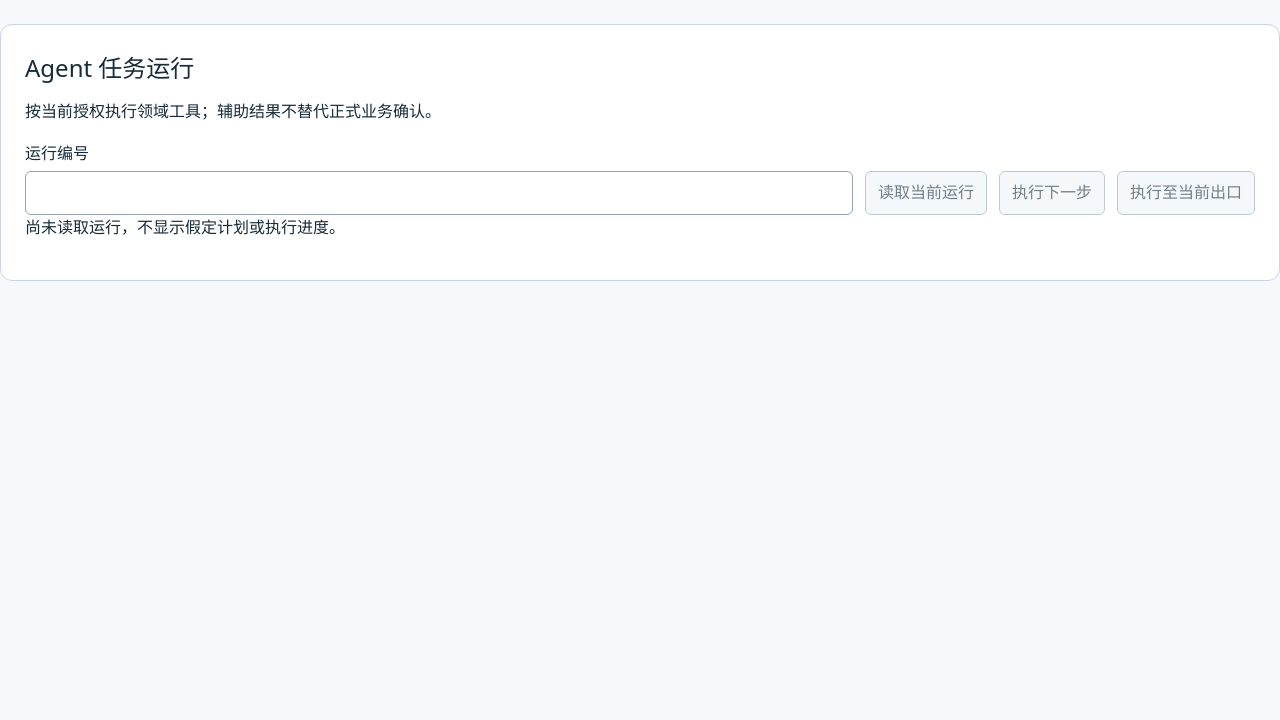
shared real-run projection › human stop disables execution without granting review actions
Type "run-1" into the field labelled "运行编号".
click(439, 193); type("run-1")  # box [25, 171, 853, 215]
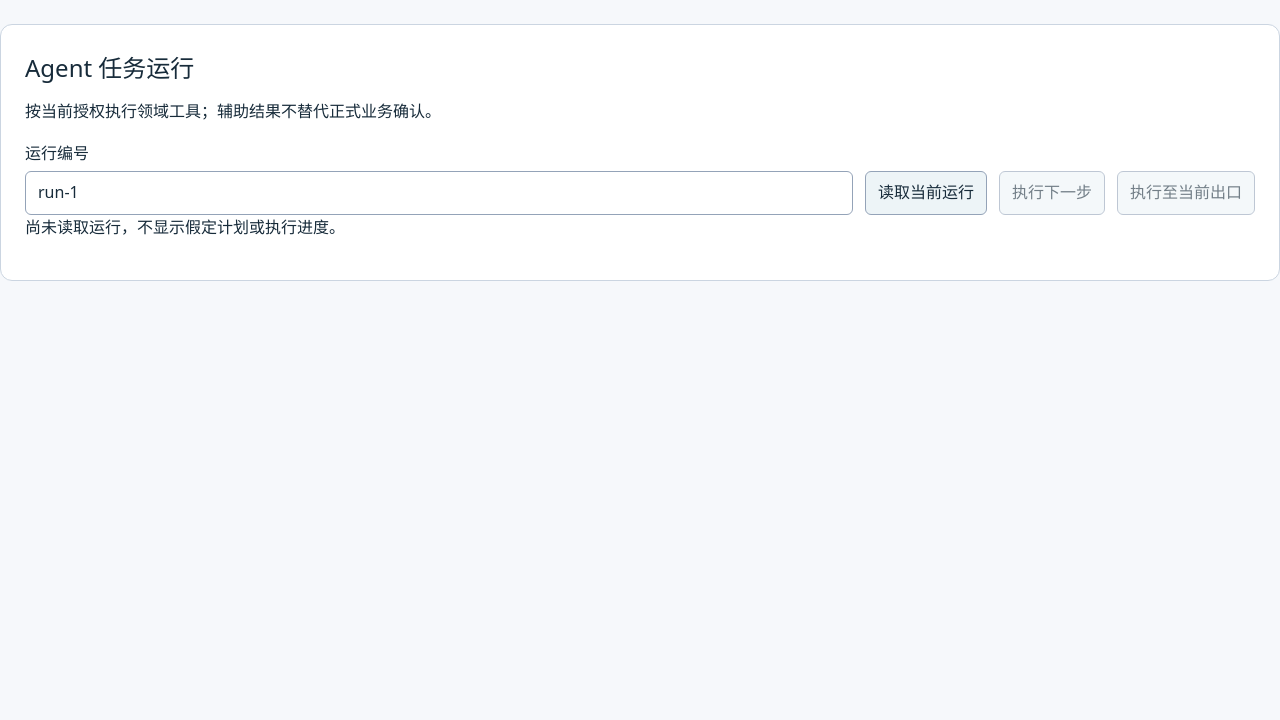
Click the button "读取当前运行".
click(926, 193)  # box [865, 171, 987, 215]
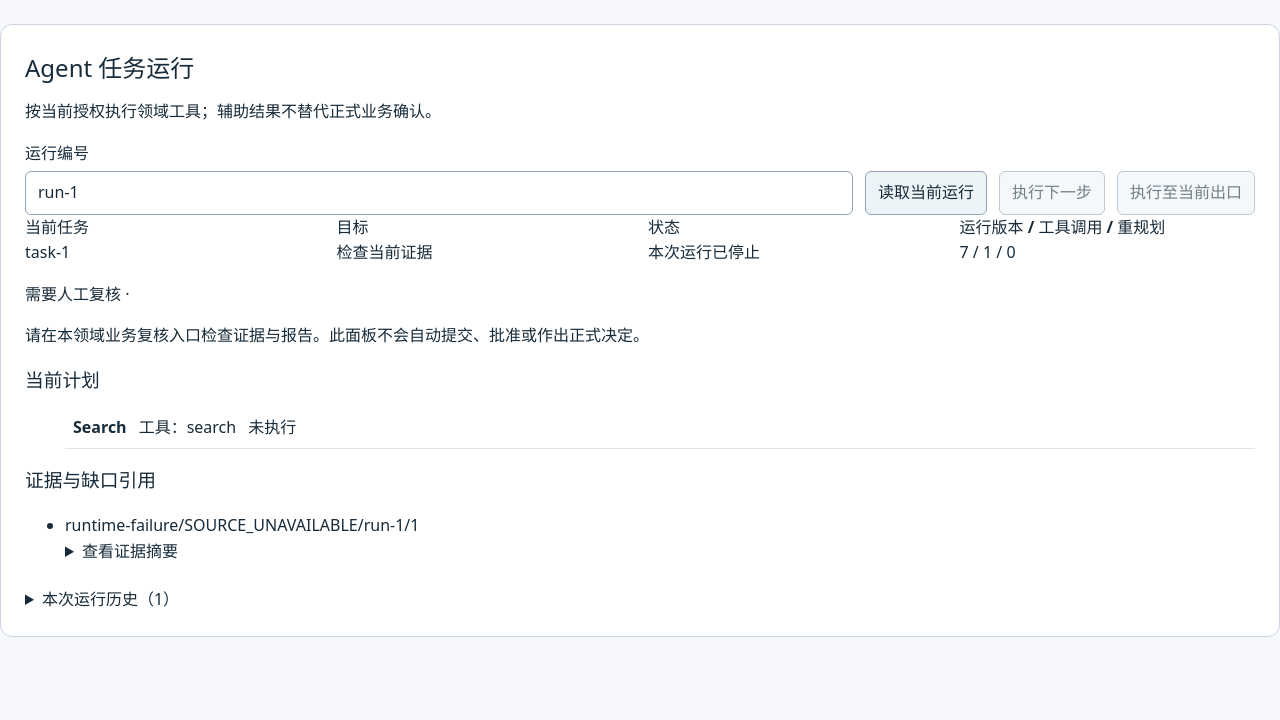
Check: the button "执行下一步" is disabled, box [999, 171, 1105, 215]
Check: the text "需要人工复核" is shown, box [25, 283, 121, 305]
